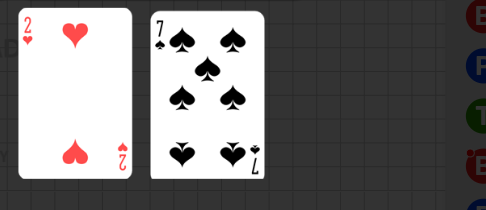2H: (115, 140, 128, 172)
7S: (248, 143, 261, 176)
